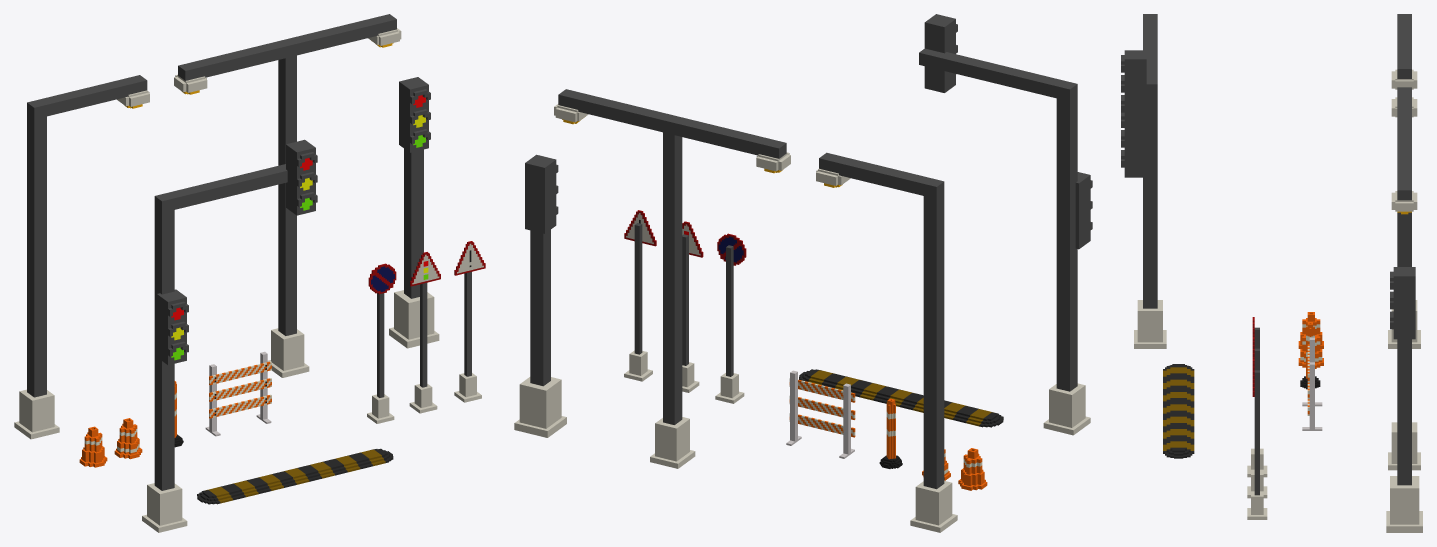
Rendered from traffic signs.fbx.
3 renders of one model, left to right at view 1: azimuth 30°, elevation 25°; view 2: azimuth 150°, elevation 25°; view 3: azimuth 270°, elevation 25°, orthographic. The views are drawn at different scales.
Parts seen in each view (by area): view 1: traffic light sdouble, light double, light single, traffic light single, yer engeli, triple, stop sign, light sign, attention sign, cift cizgili engel, tek cizgili engel; view 2: traffic light sdouble, light double, light single, traffic light single, yer engeli, triple, attention sign, stop sign, light sign, tek cizgili engel, long; view 3: traffic light sdouble, traffic light single, light double, yer engeli, light single, attention sign, triple, light sign, stop sign, cift cizgili engel, tek cizgili engel, long.
Boxes of the visible parts, box(x1,y1,x2,y2) form: traffic light sdouble: box(142, 139, 317, 532); light double: box(174, 14, 401, 377); light single: box(14, 75, 149, 439); traffic light single: box(389, 77, 439, 348); yer engeli: box(197, 448, 393, 504); triple: box(205, 351, 271, 436); stop sign: box(367, 263, 396, 423); light sign: box(409, 252, 440, 413); attention sign: box(454, 241, 485, 402); cift cizgili engel: box(114, 418, 142, 459); tek cizgili engel: box(79, 426, 107, 467); traffic light sdouble: box(919, 14, 1092, 435); light double: box(554, 89, 790, 468); light single: box(816, 152, 957, 532); traffic light single: box(514, 154, 566, 437); yer engeli: box(799, 369, 1003, 427); triple: box(786, 370, 855, 458); attention sign: box(624, 210, 656, 381); stop sign: box(715, 233, 746, 403); light sign: box(682, 221, 703, 392); tek cizgili engel: box(958, 448, 987, 490); long: box(879, 398, 902, 468); traffic light sdouble: box(1121, 14, 1166, 348); traffic light single: box(1386, 267, 1422, 532); light double: box(1388, 87, 1420, 470); yer engeli: box(1163, 364, 1194, 458); light single: box(1388, 14, 1420, 348); attention sign: box(1247, 358, 1267, 519); triple: box(1302, 337, 1322, 430); light sign: box(1247, 337, 1267, 498); stop sign: box(1247, 317, 1267, 477); cift cizgili engel: box(1298, 335, 1323, 368); tek cizgili engel: box(1298, 312, 1323, 348); long: box(1300, 322, 1320, 389).
Bounding box in the file's own units: 2560 × 2110 × 1650.
Materials: 1 (1 with a texture image).
